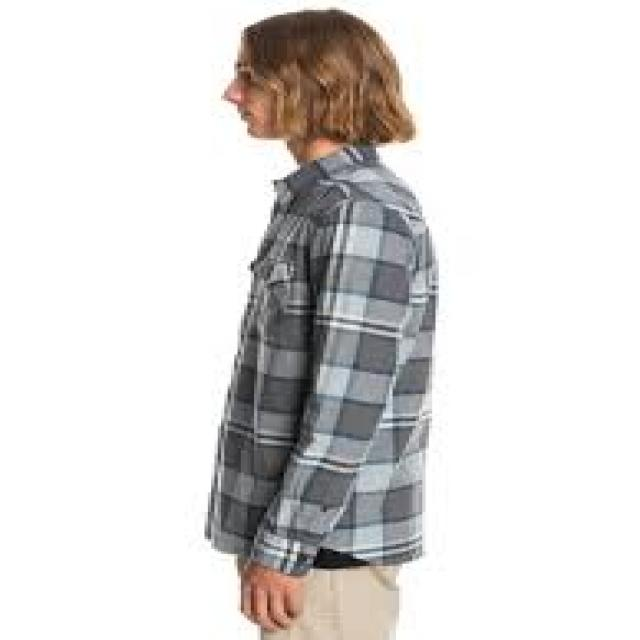plaid: (203, 144, 440, 573)
